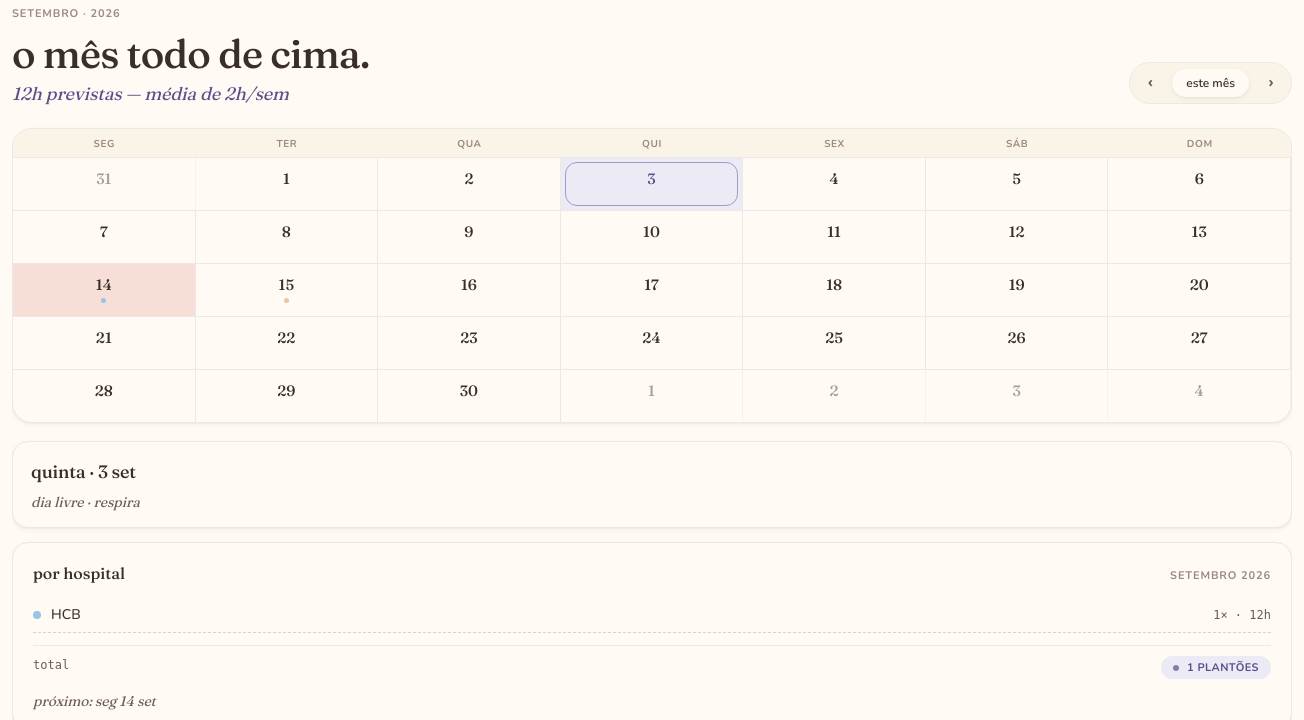
Test: Mes · mobile (grade compacta + painel do dia) › folga de dia inteiro lê "o dia inteiro"
Click the button named "dia 15": [287, 290] box [196,264,378,316]
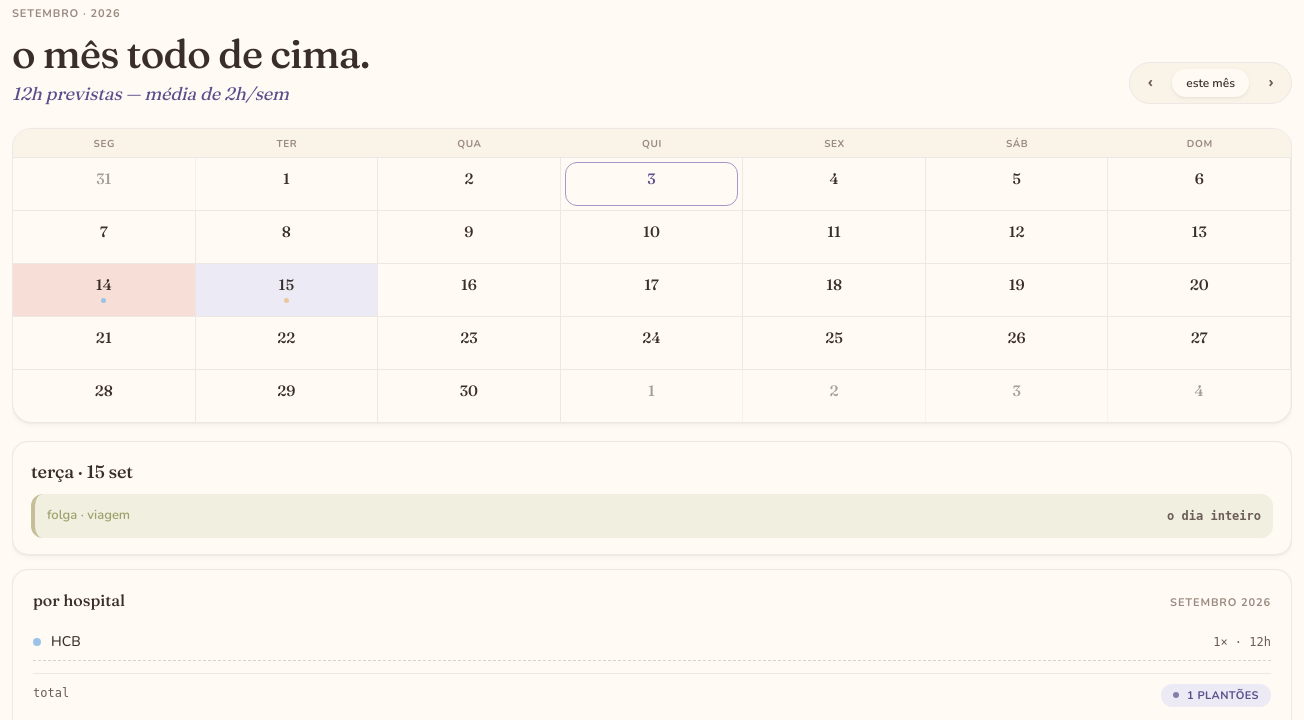
Result: the text "folga · viagem" is shown at [47,508,130,524]
Result: the text "o dia inteiro" is shown at [1167,509,1261,524]
